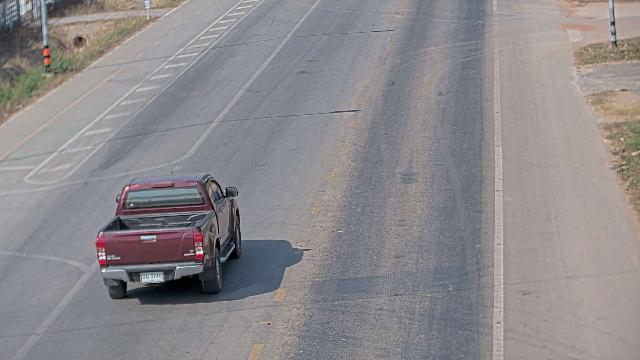pickup-truck: (94, 171, 243, 299)
